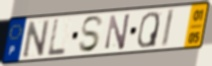I: (160, 8, 176, 49)
L: (45, 18, 67, 58)
N: (22, 18, 51, 60), (104, 12, 132, 52)
Q: (136, 11, 161, 50)
S: (77, 14, 105, 54)
